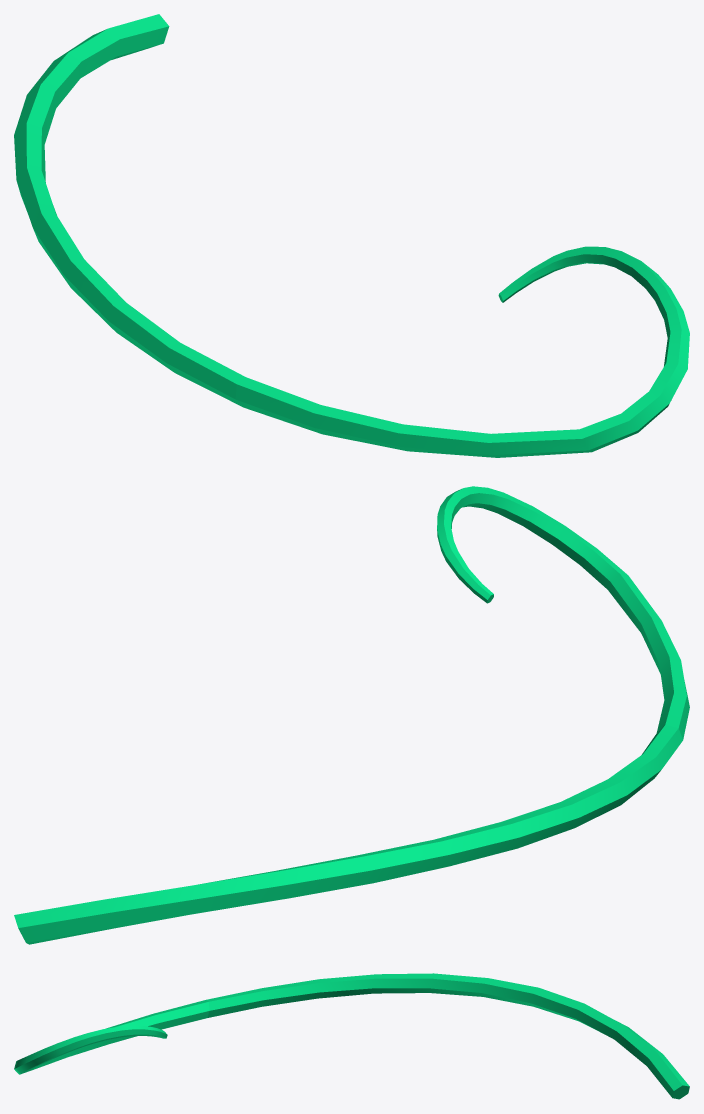
Rendered from Big_Brambles_03.fbx.
3 views of the same model, one above another, from view 1: azimuth 30°, elevation 25°; view 2: azimuth 150°, elevation 25°; view 3: azimuth 270°, elevation 25° (orthographic). The views are drawn at different scales.
Parts seen in each view (by area): view 1: Big_Brambles_03; view 2: Big_Brambles_03; view 3: Big_Brambles_03.
Part boxes in pixels (x1,y1,x2,y2): Big_Brambles_03: (14,14,689,457); Big_Brambles_03: (14,486,689,944); Big_Brambles_03: (14,973,689,1099).
Size of the model in its own units: 339 by 122 by 878.
